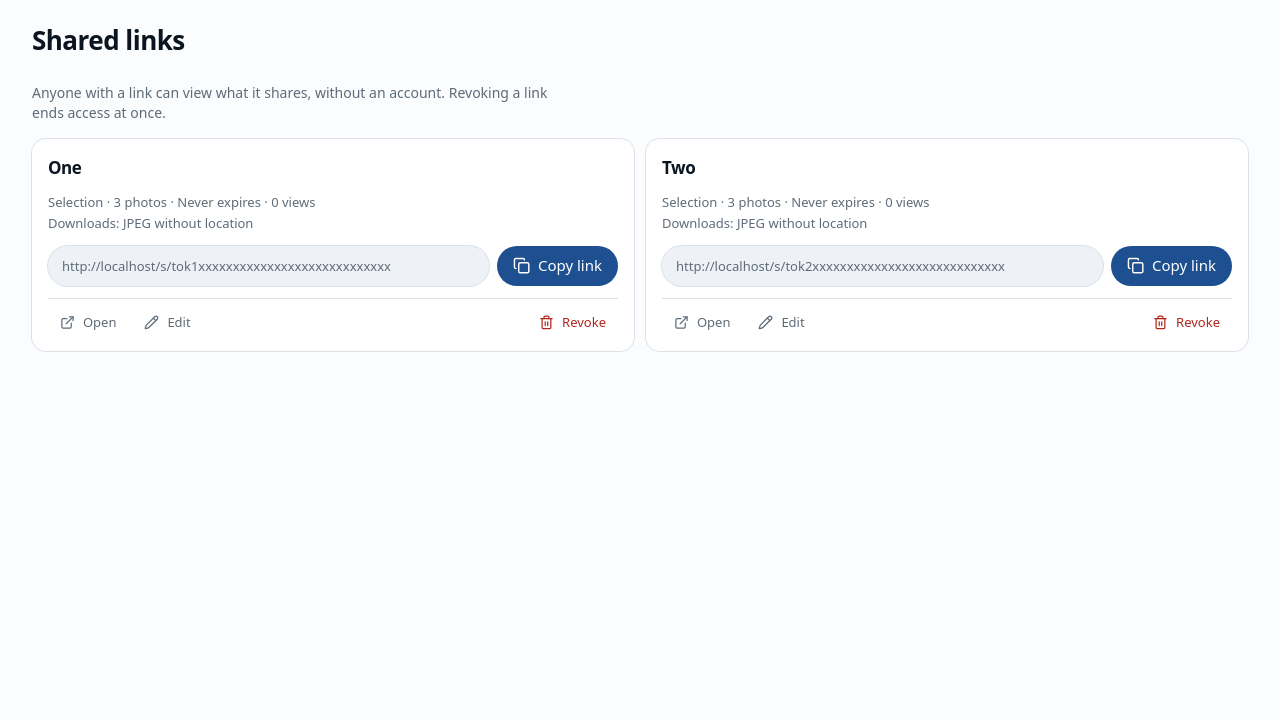
SharedLinks › revokes after confirmation and the row disappears
This screenshot has width=1280, height=720.
Expected: the list named "Shared links" is shown, [32, 139, 1248, 350]
Step 1. Click the 1st button "Revoke" → (573, 322), box [527, 306, 618, 338]
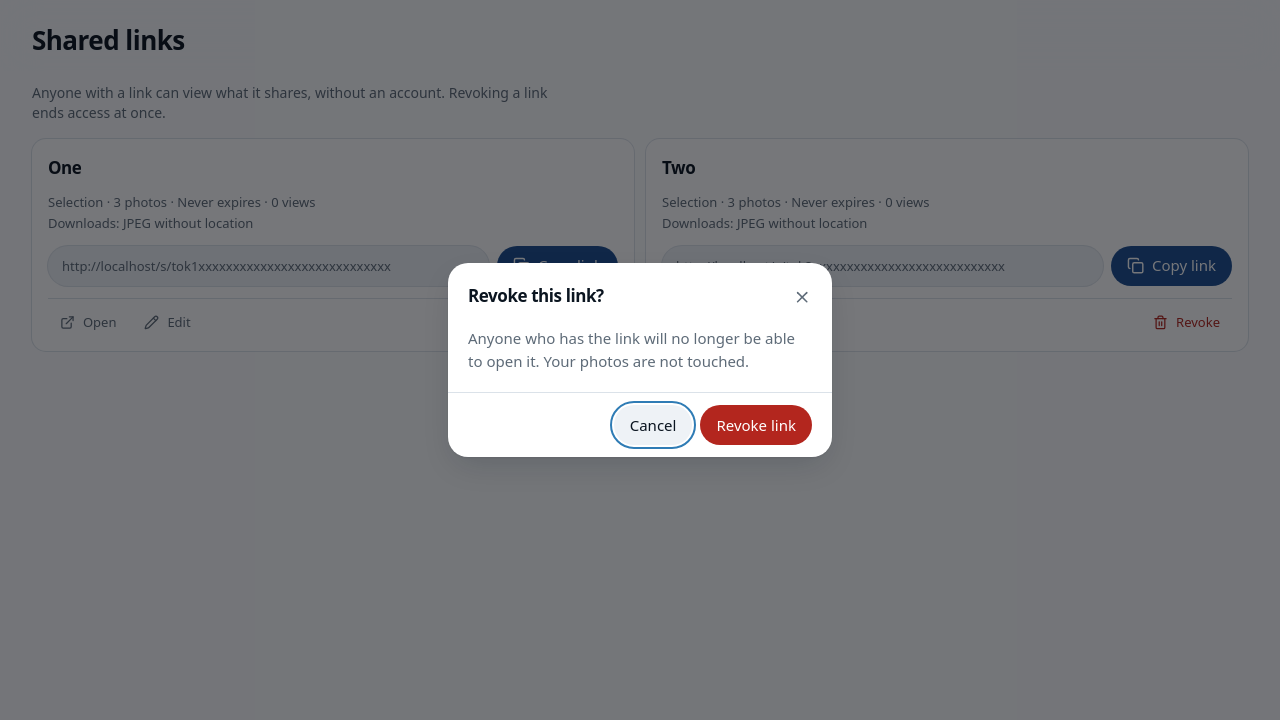
Step 2. Click the button "Revoke link" → (756, 425), box [700, 405, 812, 445]
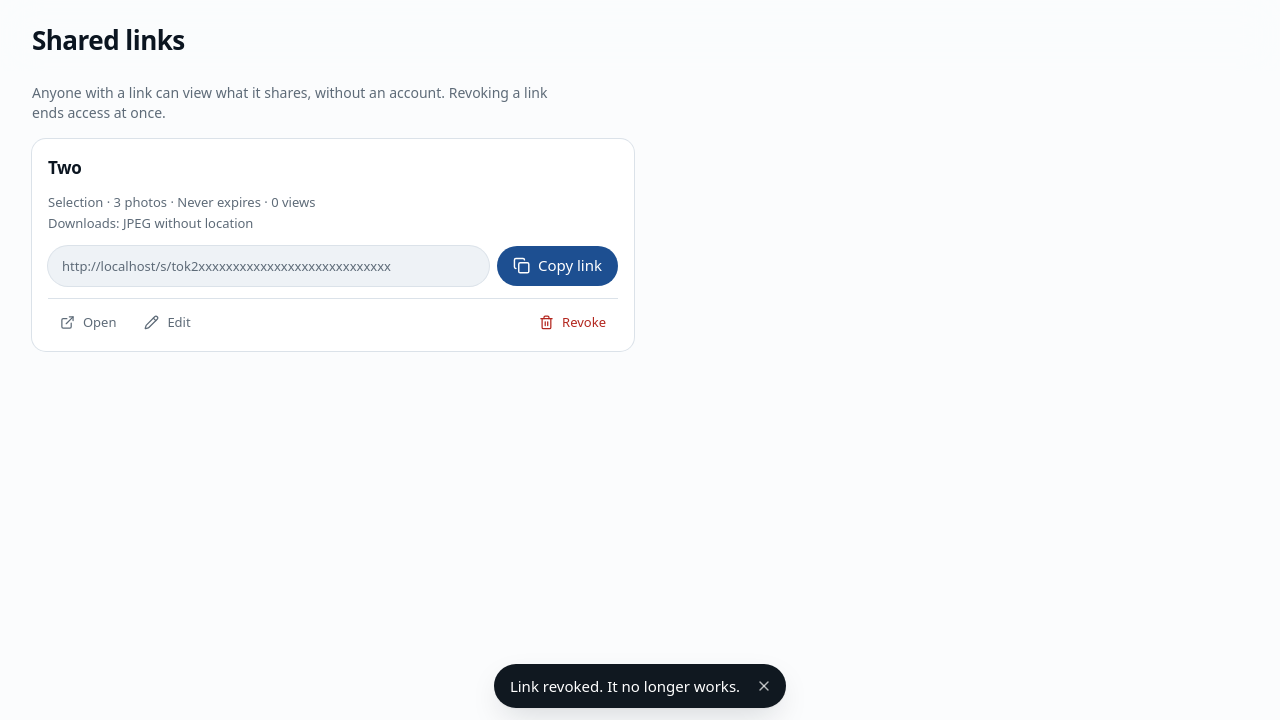
Expected: the text "Two" is shown, [48, 155, 81, 180]
Expected: the number of list items is 1, [32, 139, 634, 350]
Expected: the text "Link revoked. It no longer works." is shown, [510, 672, 740, 700]
